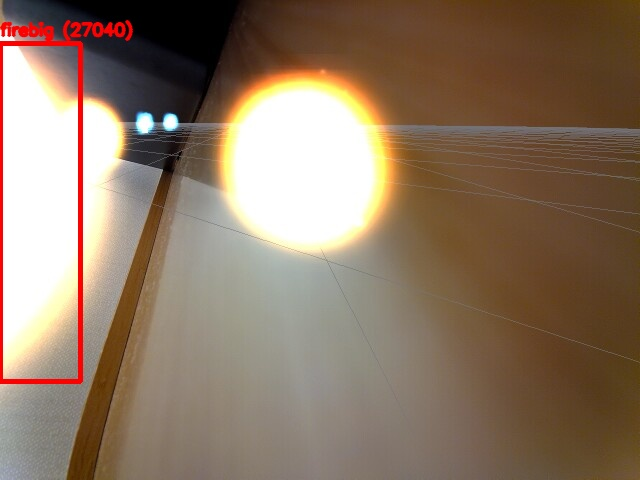firebig: (0, 43, 80, 381)
